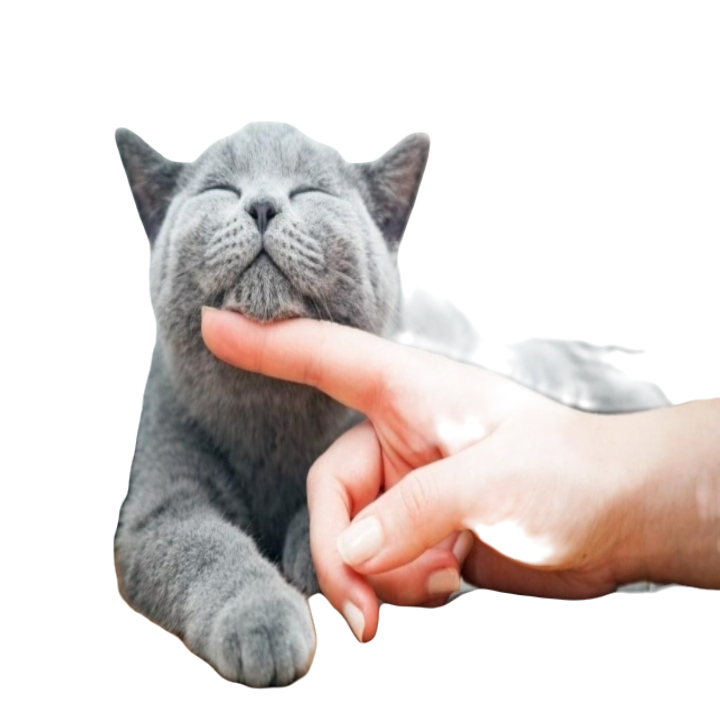Cat: (7, 120, 719, 691)
